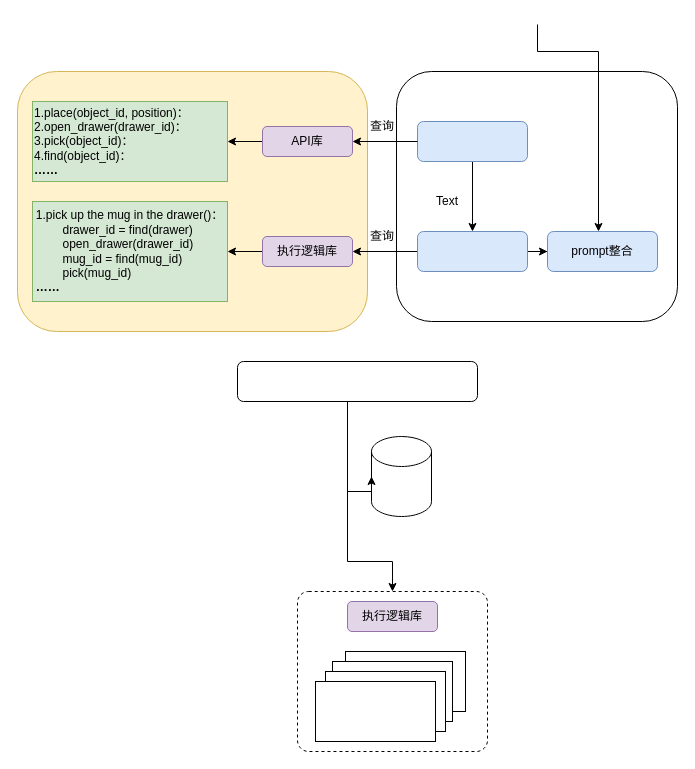
This 695x769 diagram has some shape labels left out. The centre of each missing label's shape, as x and y in pixels:
执行逻辑检索: [472,251]
语义检索: [472,141]
输入：请把桌子上的番茄放在菜板上: [357,381]
